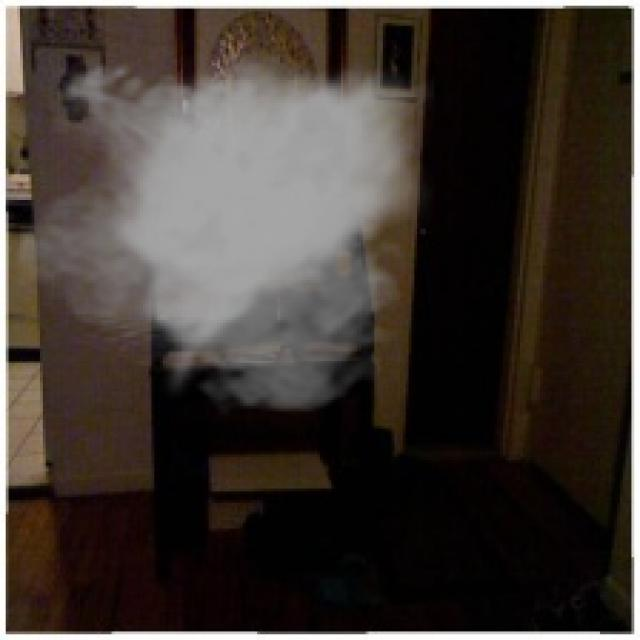smoke: (14, 52, 434, 417)
